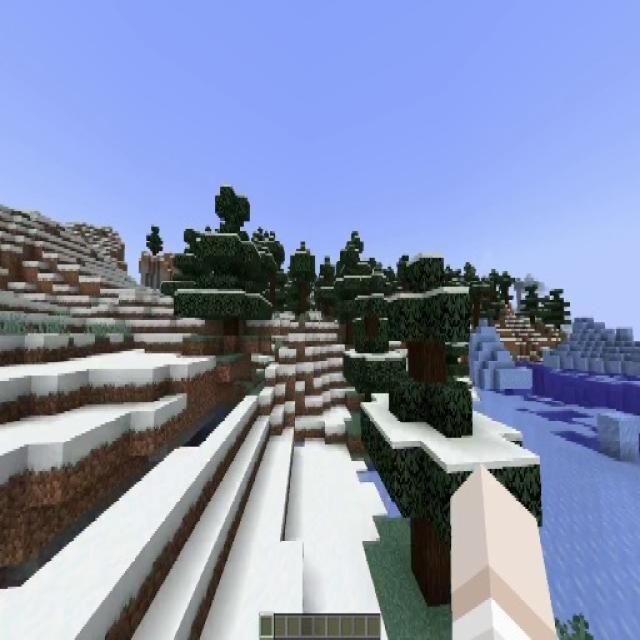spruce: (368, 250, 546, 604), (178, 184, 273, 340), (288, 240, 317, 318), (544, 286, 572, 334), (466, 275, 488, 327), (520, 283, 544, 326), (146, 225, 163, 255)
spruce_log: (410, 522, 449, 611), (408, 337, 446, 384), (299, 273, 306, 313), (225, 316, 238, 336), (474, 302, 479, 326)
